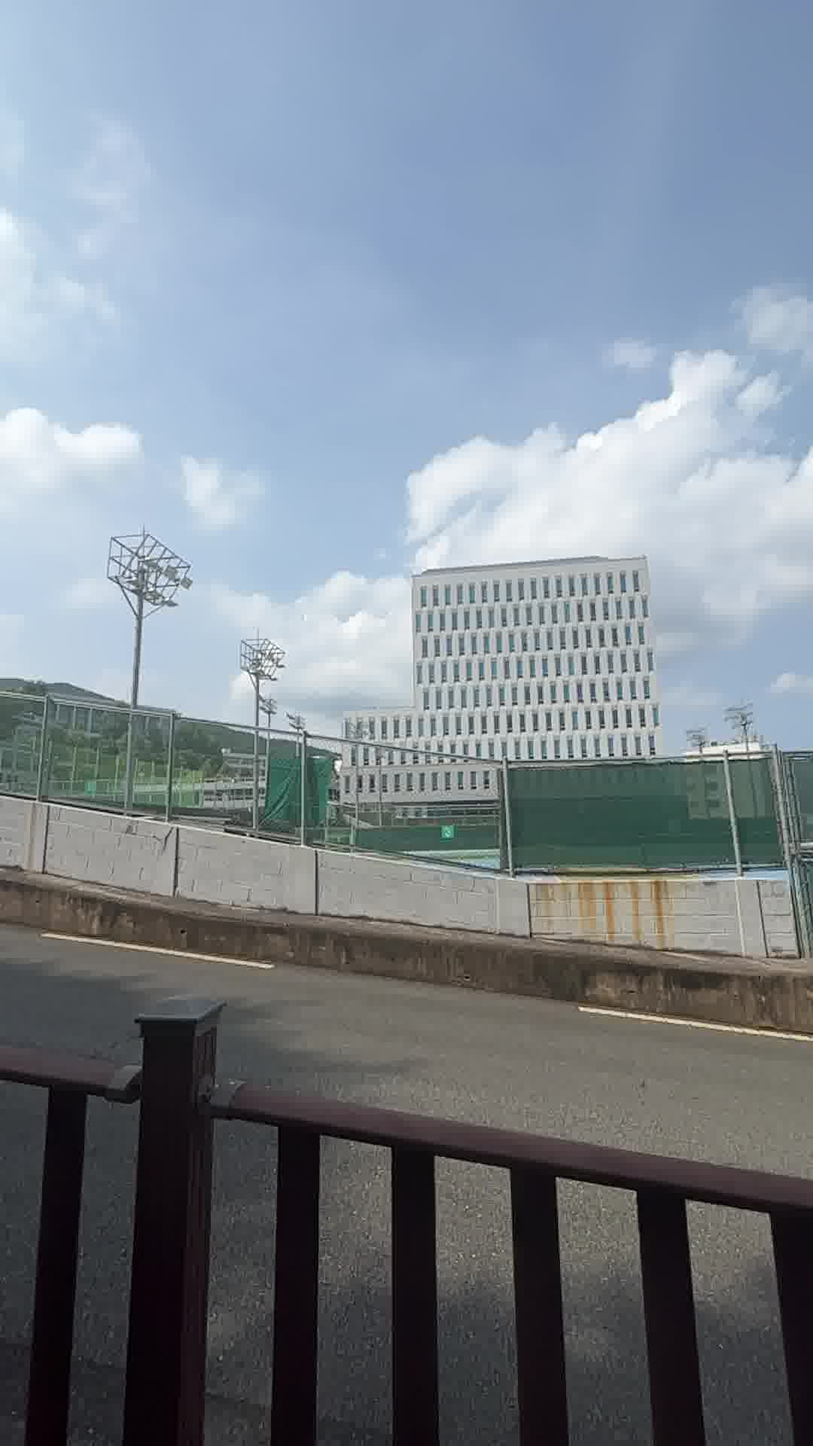low: (348, 550, 657, 768)
